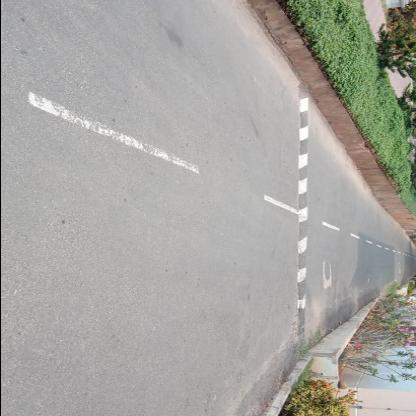speed-bumps: (288, 78, 314, 352)
